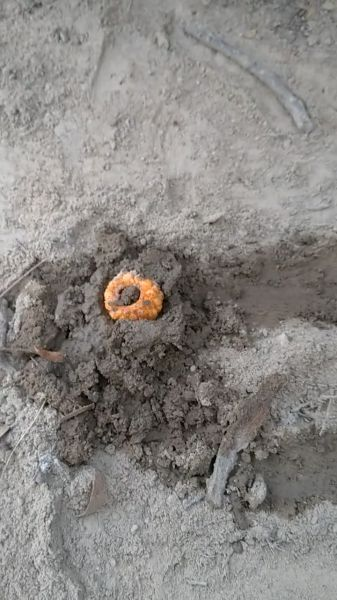eggs: (100, 268, 170, 329)
